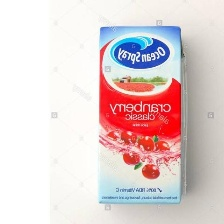carton: (91, 22, 192, 207)
